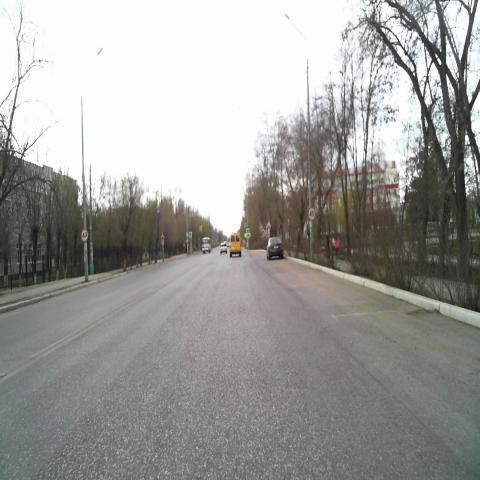3_24: (307, 207, 315, 220), (82, 229, 88, 241)
